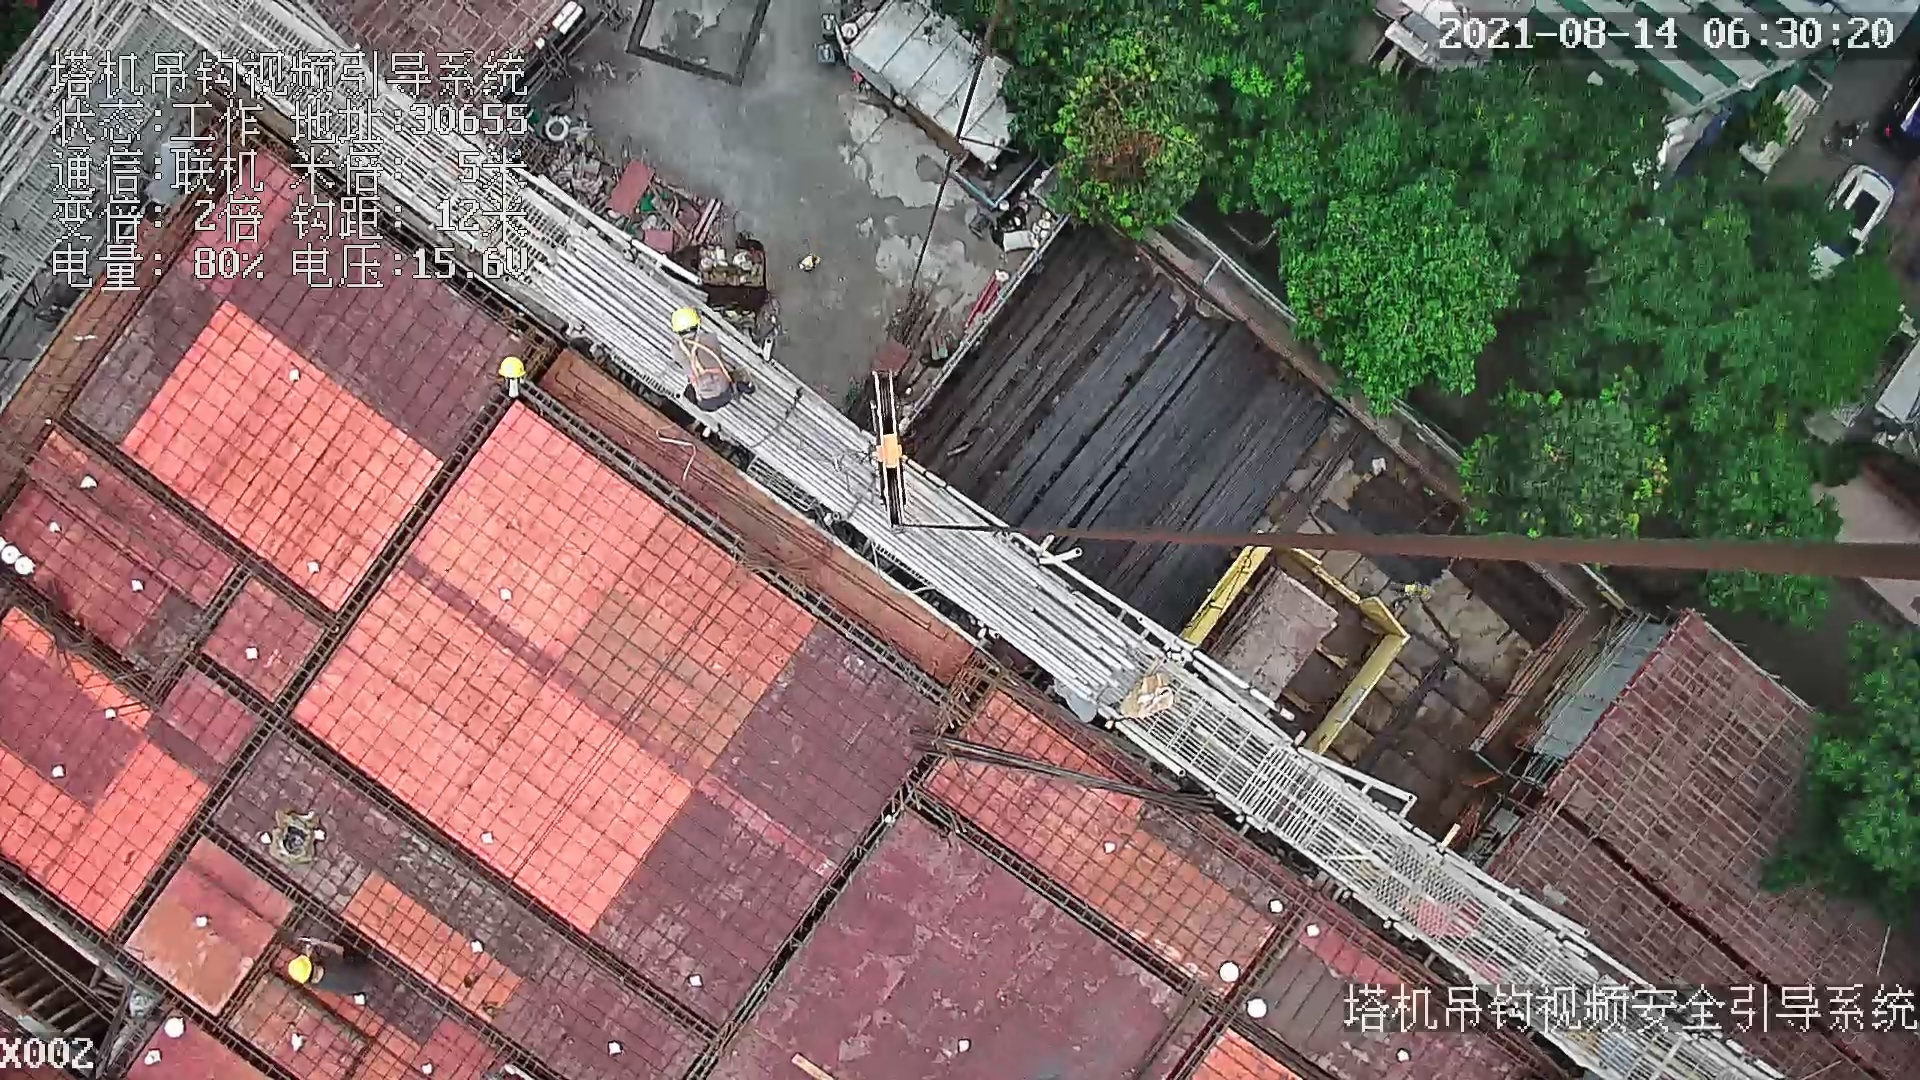helmet: (286, 954, 312, 986), (669, 308, 705, 331), (497, 355, 529, 380)
hook: (859, 367, 915, 535)
person: (668, 304, 763, 415), (276, 926, 382, 1003)
rebar: (928, 240, 1329, 628)
